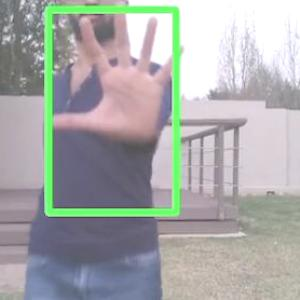follow_hand: (40, 0, 191, 147)
